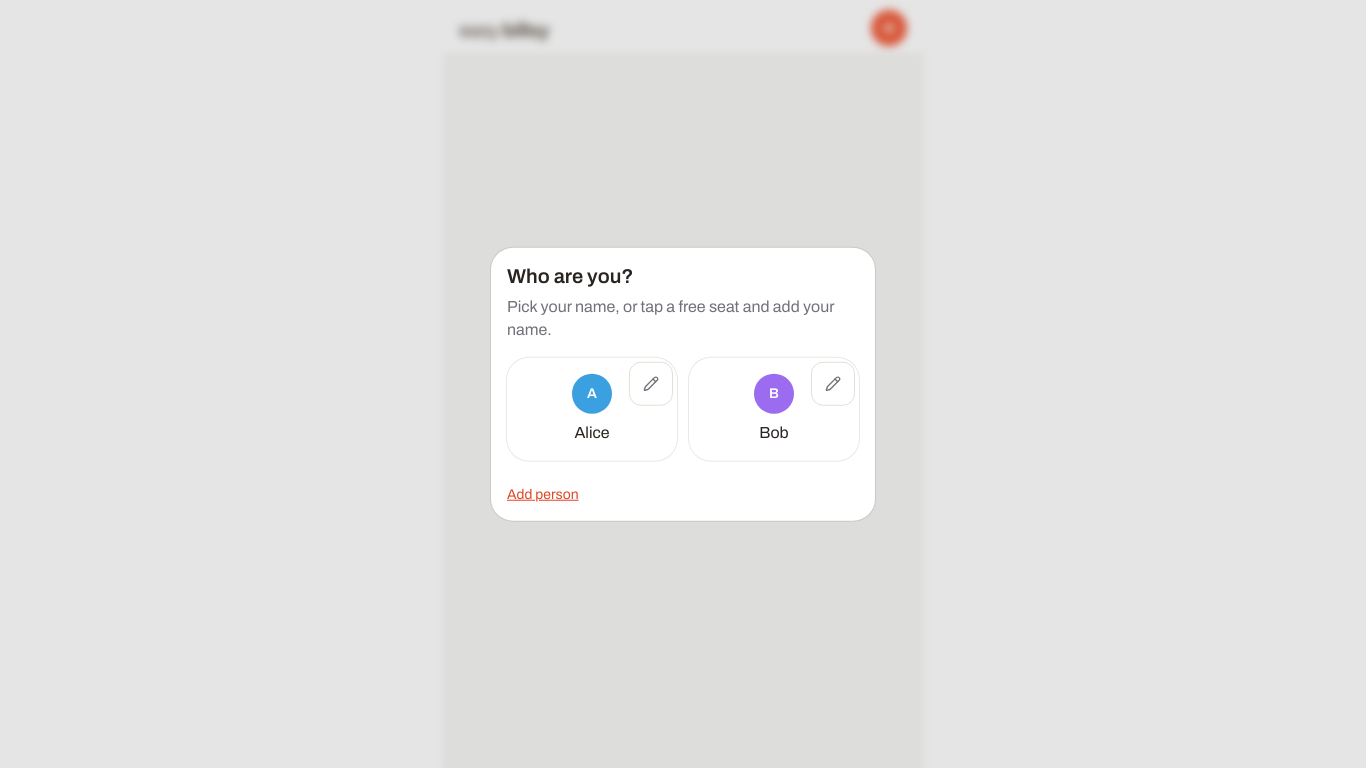
CollaborativeClaimingView › Test 6 (D-09 all-claimed): I'm done with zero unclaimed advances directly to Results
Step 1. Click the button with aria-label "claim slot alice" → (592, 409), box [507,357,677,460]
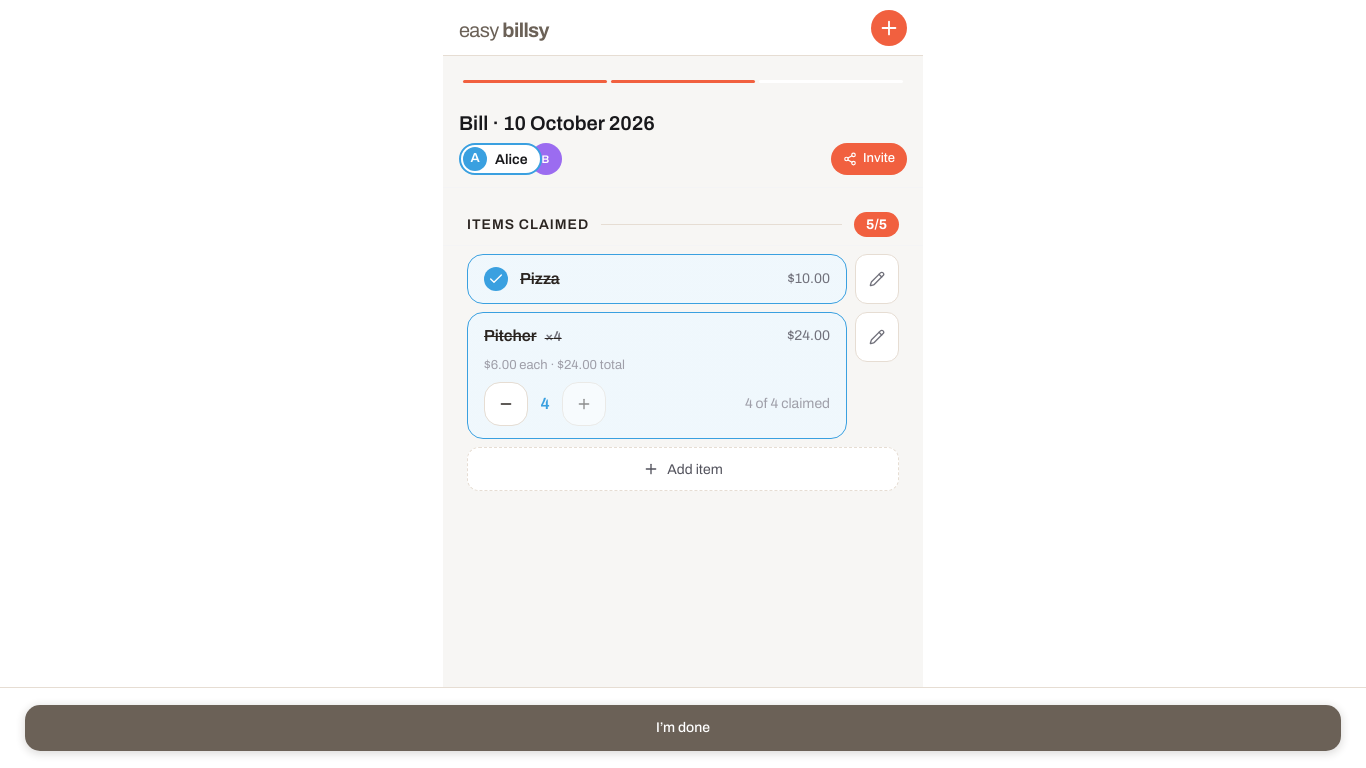
Check: the button "I’m done" is shown
Step 2. Click the button "I’m done" → (683, 728), box [24,704,1342,752]
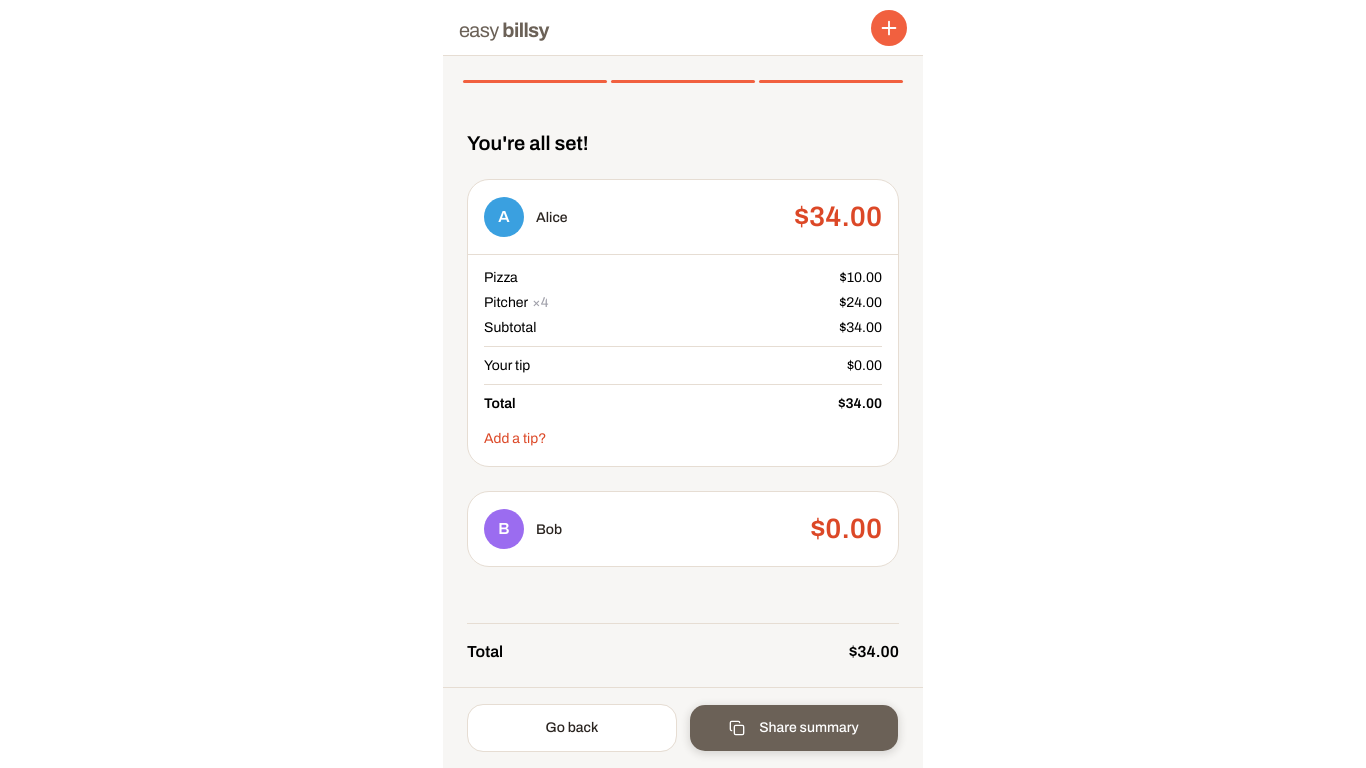
Check: the button "Add a tip?" is shown, box [484,431,546,446]
